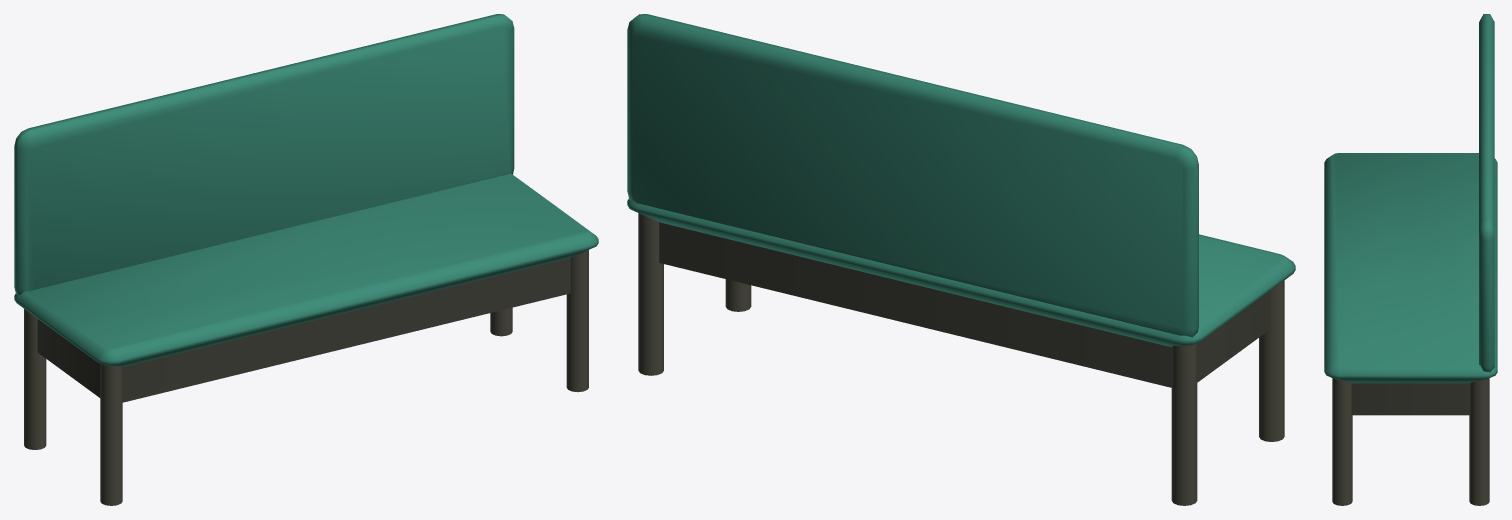
File: EM_126_140_long_bench_var1.glb
3 renders of one model, left to right at view 1: azimuth 30°, elevation 25°; view 2: azimuth 150°, elevation 25°; view 3: azimuth 270°, elevation 25°, orthographic. The views are drawn at different scales.
Visible parts, largest first — view 1: back, bench, legs; view 2: back, bench, legs; view 3: bench, back, legs.
Boxes of the visible parts, x1=… form: back: x1=14, y1=14, x2=514, y2=295; bench: x1=14, y1=173, x2=598, y2=402; legs: x1=24, y1=250, x2=588, y2=505; back: x1=627, y1=14, x2=1198, y2=337; bench: x1=627, y1=199, x2=1295, y2=387; legs: x1=638, y1=213, x2=1284, y2=505; bench: x1=1324, y1=153, x2=1497, y2=415; back: x1=1479, y1=14, x2=1494, y2=372; legs: x1=1332, y1=378, x2=1489, y2=505.
Size of the model in its own units: 2.25 by 1.35 by 0.75.
